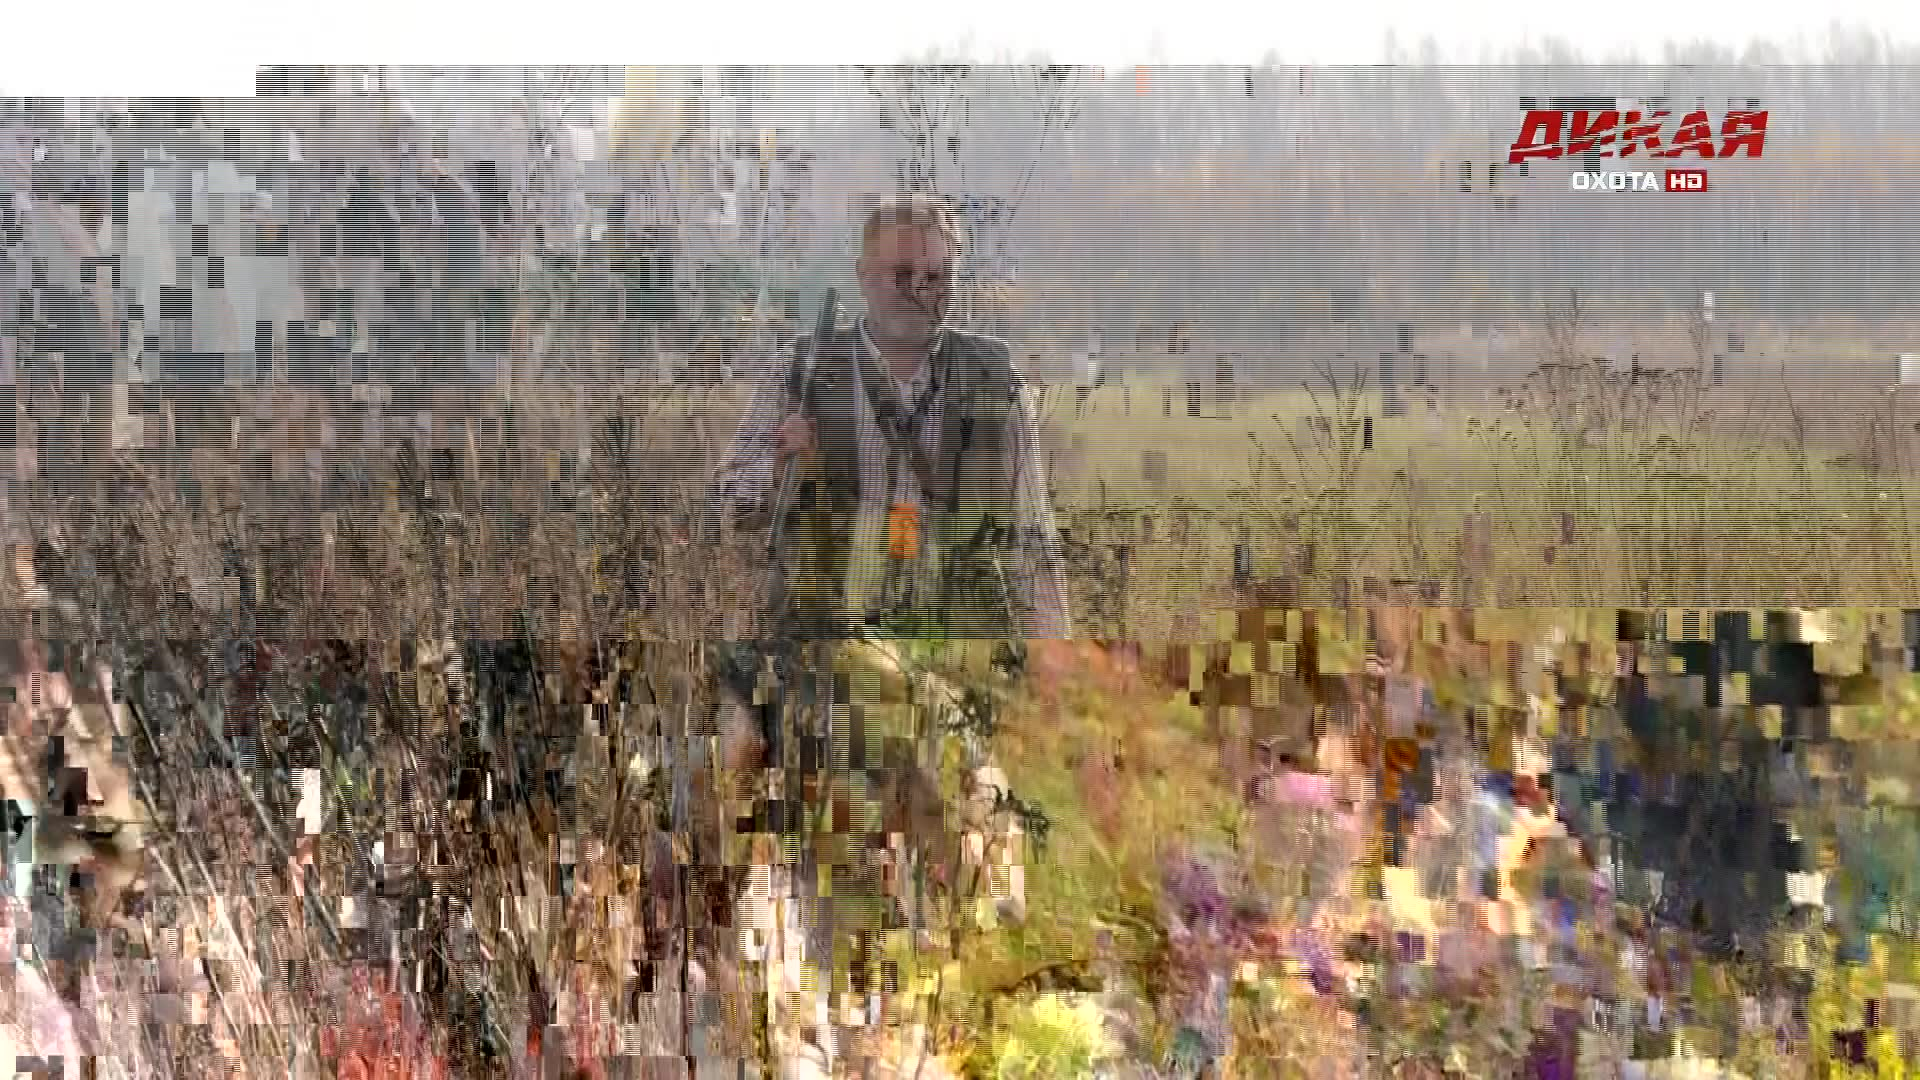Dikaya_Ohota_HD: (1502, 103, 1778, 200)
